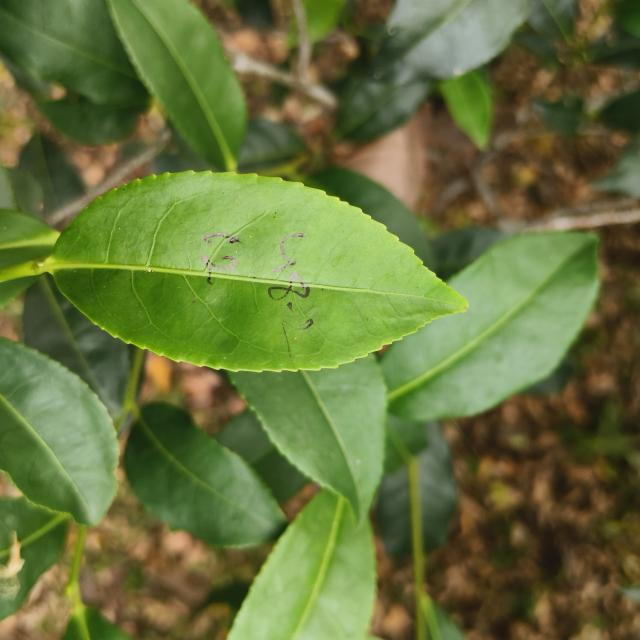Leaf: (43, 171, 466, 371), (381, 232, 598, 420), (230, 355, 386, 521), (107, 0, 247, 171), (124, 402, 286, 546), (0, 338, 119, 526), (227, 490, 375, 640), (0, 0, 147, 106), (305, 167, 435, 270), (376, 415, 457, 561), (390, 0, 530, 79), (0, 497, 70, 620), (336, 62, 430, 143), (37, 95, 147, 146), (440, 70, 492, 149)
